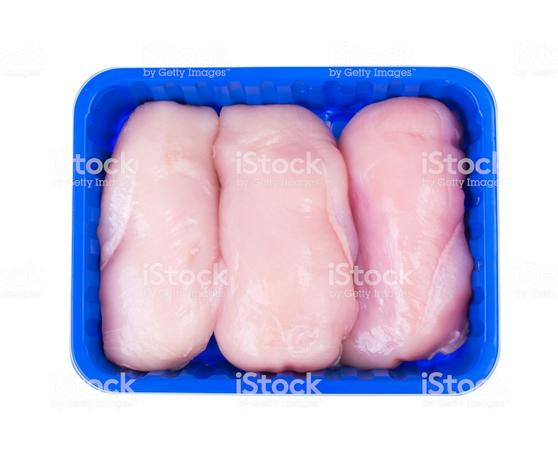chicken_fillet: (332, 85, 503, 390), (205, 97, 365, 379), (89, 94, 233, 376)
